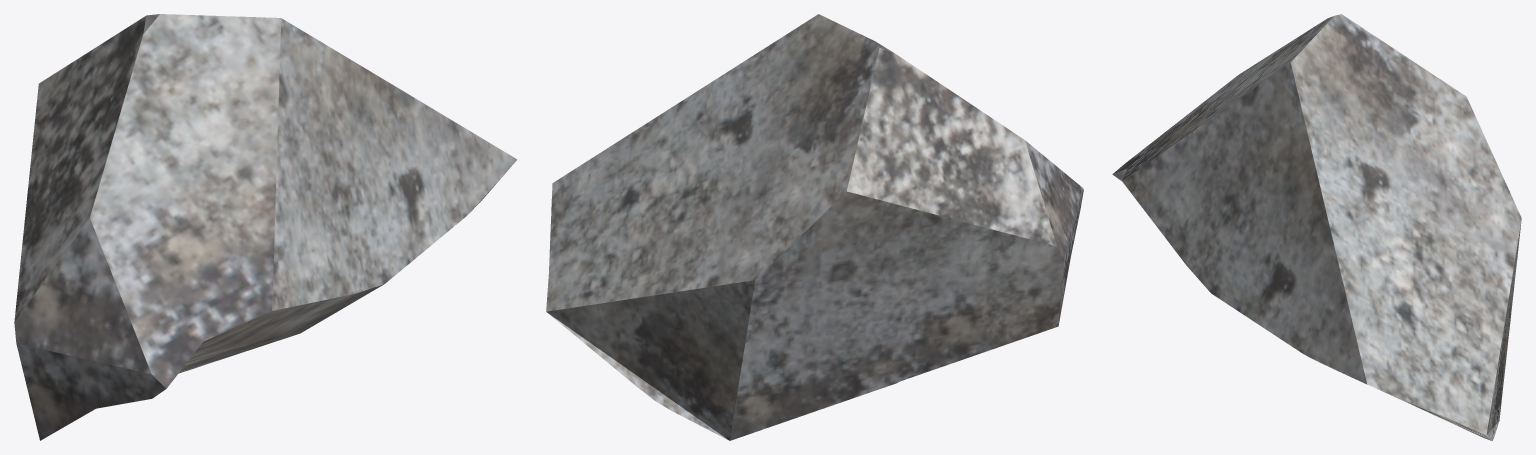
File: Asteroid_Large_001_02_001_03_027.fbx
3 renders of one model, left to right at view 1: azimuth 30°, elevation 25°; view 2: azimuth 150°, elevation 25°; view 3: azimuth 270°, elevation 25°, orthographic. The views are drawn at different scales.
Parts seen in each view (by area): view 1: Asteroid_Large_001_02_001_03_027; view 2: Asteroid_Large_001_02_001_03_027; view 3: Asteroid_Large_001_02_001_03_027.
Boxes of the visible parts, x1,y1,x2,y2 form: Asteroid_Large_001_02_001_03_027: (14, 14, 517, 440); Asteroid_Large_001_02_001_03_027: (546, 14, 1083, 440); Asteroid_Large_001_02_001_03_027: (1112, 14, 1521, 440).
Bounding box in the file's own units: 8.44 × 6.27 × 6.26.
